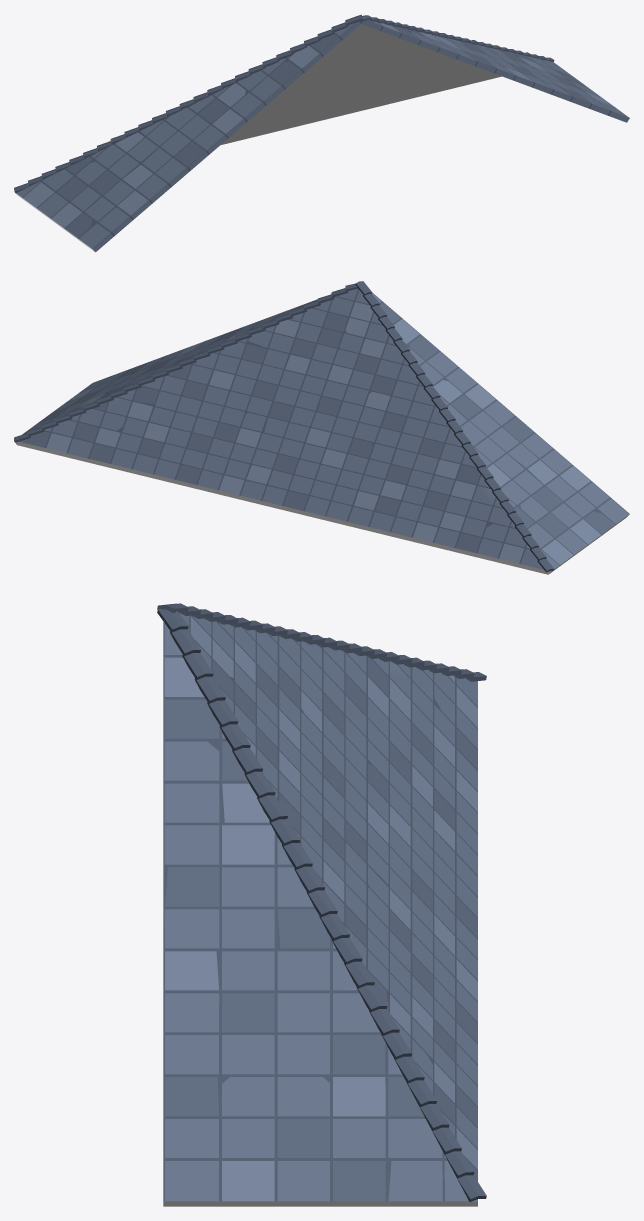
File: Roof4_C7_02.fbx
3 views of the same model, one above another, from view 1: azimuth 30°, elevation 25°; view 2: azimuth 150°, elevation 25°; view 3: azimuth 270°, elevation 25° (orthographic). The views are drawn at different scales.
Parts seen in each view (by area): view 1: Roof4_C7_02; view 2: Roof4_C7_02; view 3: Roof4_C7_02.
Boxes of the visible parts, <box> form: Roof4_C7_02: <box>14,14,629,252</box>; Roof4_C7_02: <box>14,281,629,574</box>; Roof4_C7_02: <box>157,603,486,1206</box>.
Bounding box in the file's own units: 11.1 × 3.37 × 2.94.
